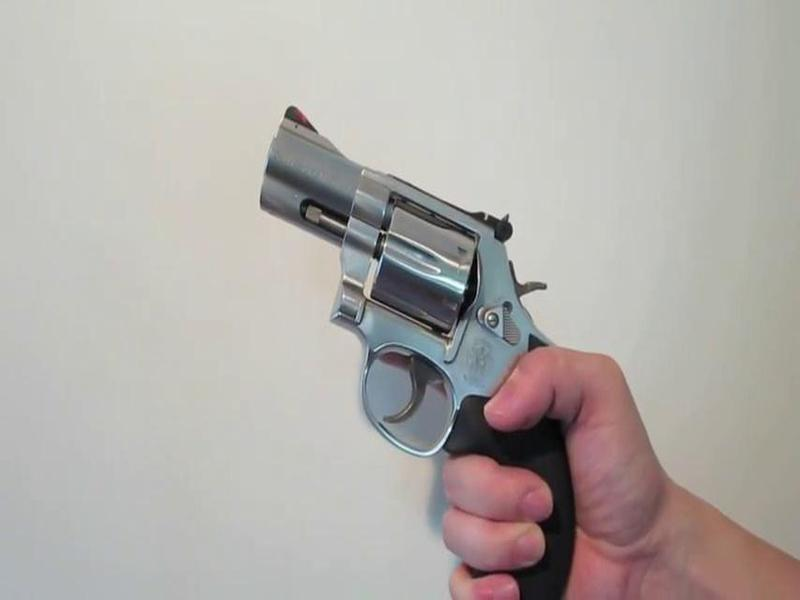Revolver: (229, 80, 583, 564)
